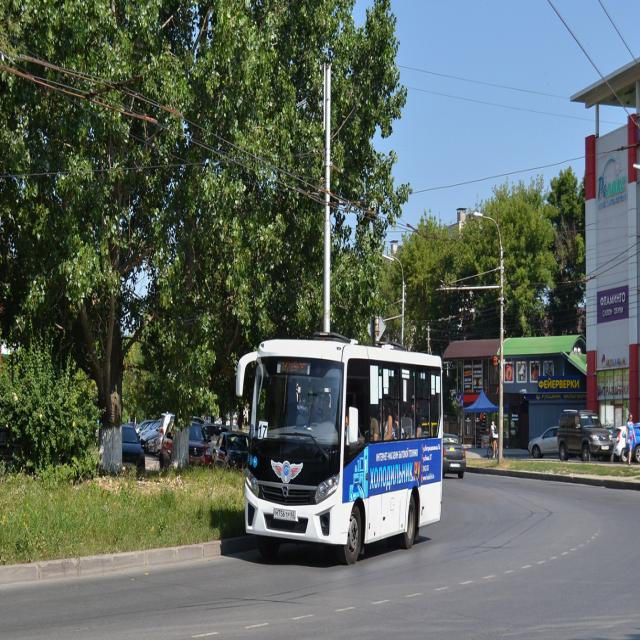number-of-bus: (259, 424, 269, 440)
